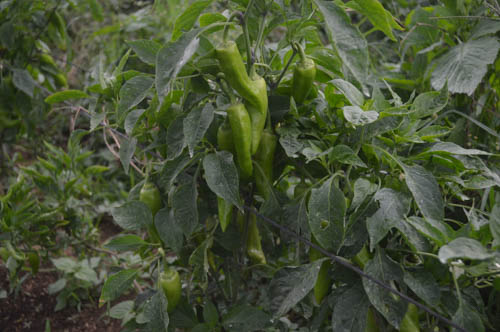ChiliPepper: (216, 41, 263, 110), (221, 109, 260, 180), (242, 68, 269, 163), (135, 185, 170, 250), (301, 239, 332, 308), (238, 216, 268, 262), (210, 184, 237, 235), (155, 269, 181, 320), (295, 56, 315, 108)
